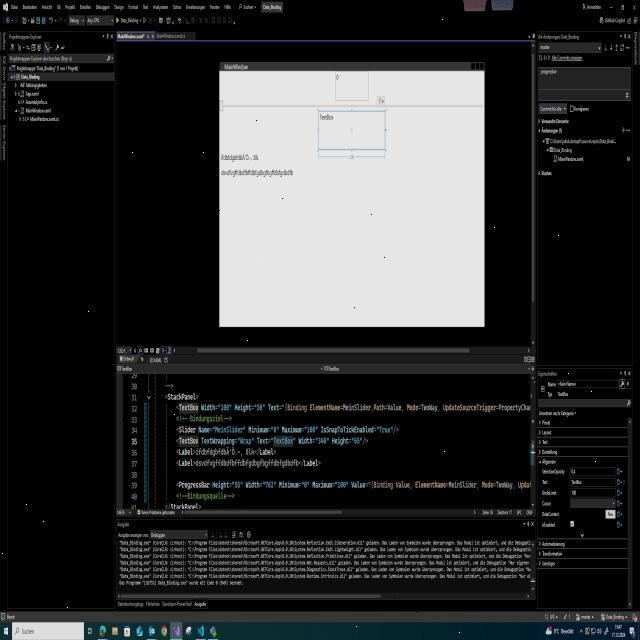input: (317, 105, 388, 159), (333, 64, 372, 104), (13, 621, 84, 640)
